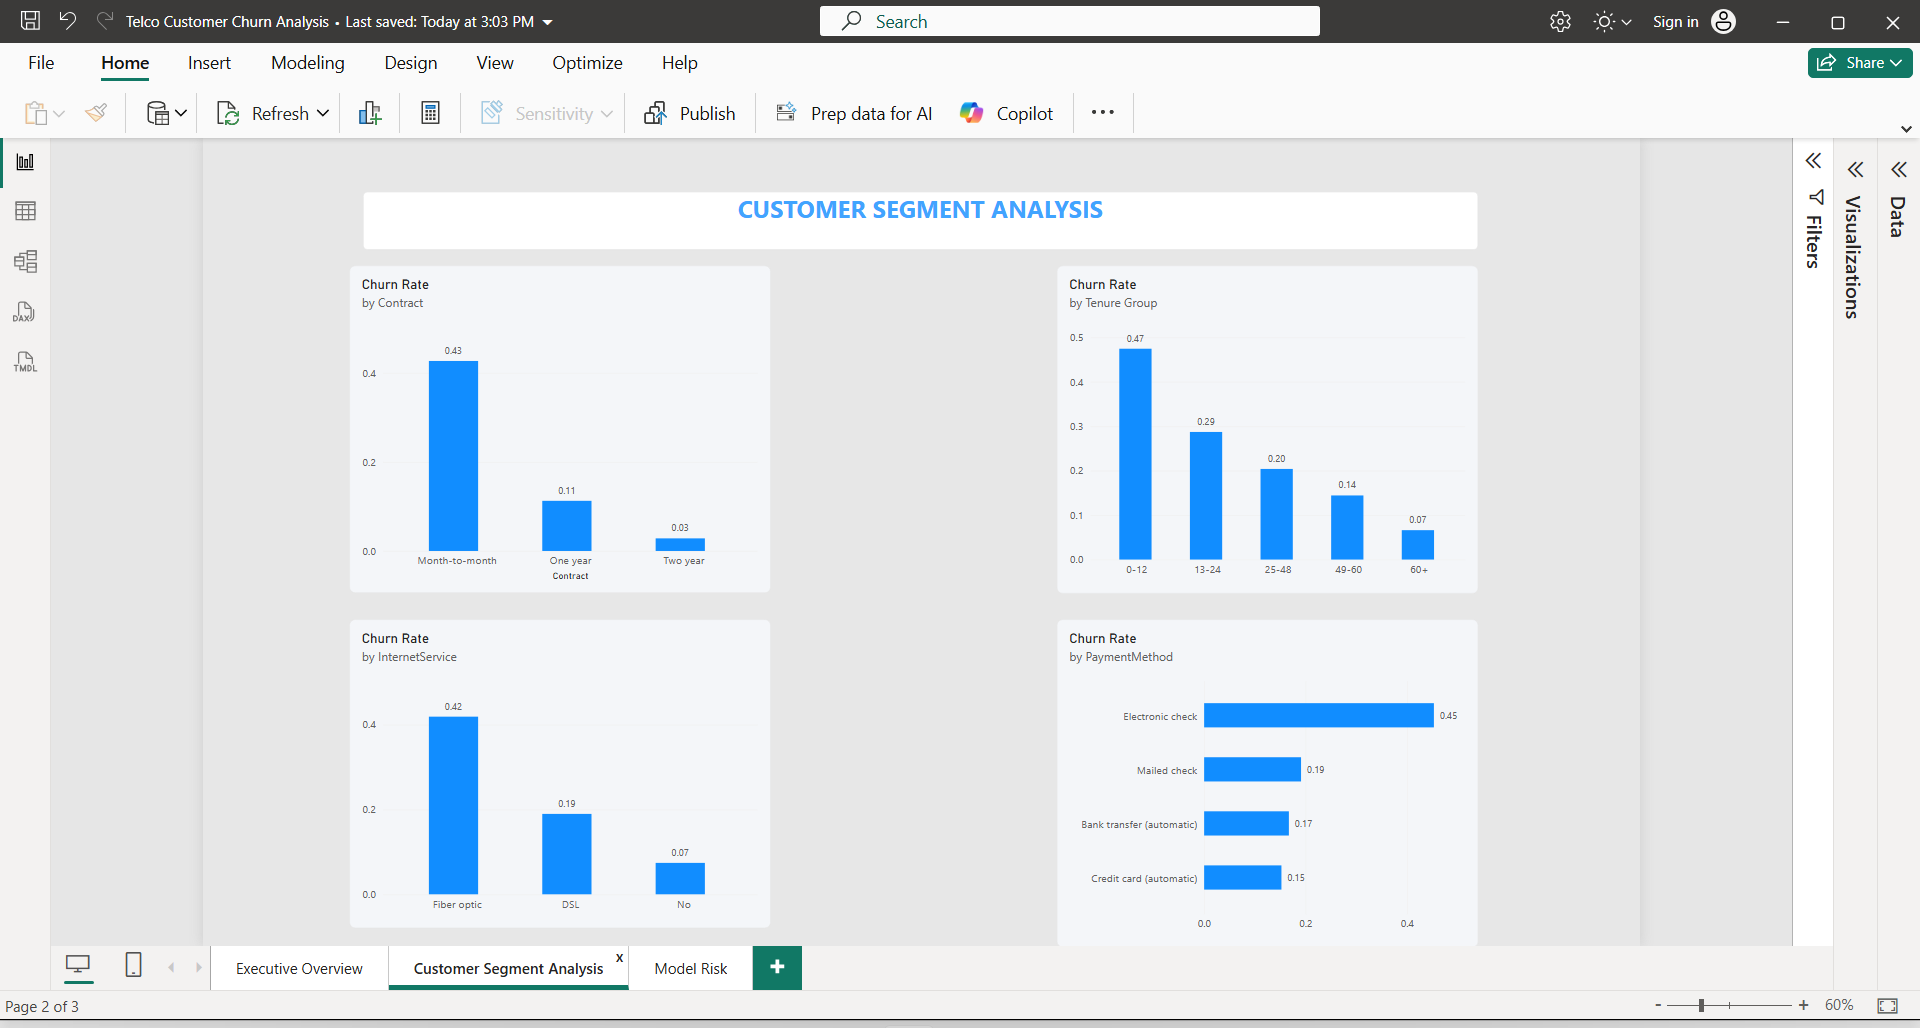

The page's visual inventory and layout, read from the dashboard file:
{"tool":"powerbi","page":{"name":"Customer Segment Analysis","canvas":[1920,1080],"ordinal":1},"visuals":[{"type":"clusteredColumnChart","fields":{"Category":["WA_Fn-UseC_-Telco-Customer-Churn.Contract"],"Y":["WA_Fn-UseC_-Telco-Customer-Churn.Churn Rate"]},"box":[195.4,170.1,562.8,437.9],"z":0},{"type":"clusteredColumnChart","fields":{"Category":["WA_Fn-UseC_-Telco-Customer-Churn.Tenure Group"],"Y":["WA_Fn-UseC_-Telco-Customer-Churn.Churn Rate"]},"box":[1140.1,170.1,563,438],"z":1000},{"type":"clusteredColumnChart","fields":{"Category":["WA_Fn-UseC_-Telco-Customer-Churn.InternetService"],"Y":["WA_Fn-UseC_-Telco-Customer-Churn.Churn Rate"]},"box":[195.4,642.4,562.8,412.6],"z":2000},{"type":"clusteredBarChart","fields":{"Category":["WA_Fn-UseC_-Telco-Customer-Churn.PaymentMethod"],"Y":["WA_Fn-UseC_-Telco-Customer-Churn.Churn Rate"]},"box":[1140.1,642.4,563,438],"z":3000},{"type":"textbox","box":[213.5,72.4,1489.4,77.8],"z":4000}]}

Visuals, with their boxes on the page's 1920x1080 design canvas (x1, y1, x2, y2). These are canvas units, not pixel positions in the 1920x1028 screenshot, which may show the page scaled, cropped or inside an application window:
clusteredColumnChart - WA_Fn-UseC_-Telco-Customer-Churn.Contract x WA_Fn-UseC_-Telco-Customer-Churn.Churn Rate: 195:170:758:608
clusteredColumnChart - WA_Fn-UseC_-Telco-Customer-Churn.Tenure Group x WA_Fn-UseC_-Telco-Customer-Churn.Churn Rate: 1140:170:1703:608
clusteredColumnChart - WA_Fn-UseC_-Telco-Customer-Churn.InternetService x WA_Fn-UseC_-Telco-Customer-Churn.Churn Rate: 195:642:758:1055
clusteredBarChart - WA_Fn-UseC_-Telco-Customer-Churn.PaymentMethod x WA_Fn-UseC_-Telco-Customer-Churn.Churn Rate: 1140:642:1703:1080
textbox: 214:72:1703:150
